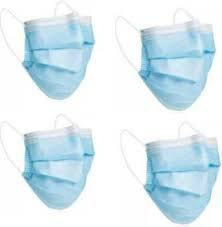flumask: (135, 21, 214, 97)
